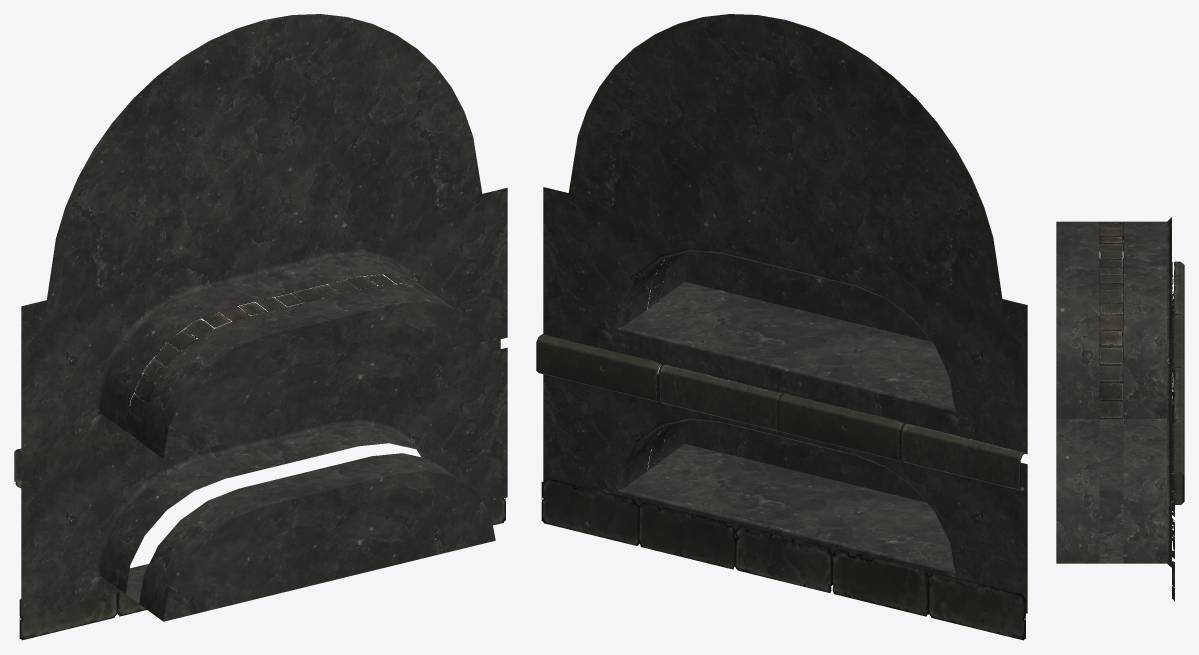
3 views of the same model, side by side, from view 1: azimuth 30°, elevation 25°; view 2: azimuth 150°, elevation 25°; view 3: azimuth 270°, elevation 25° (orthographic). The views are drawn at different scales.
Parts seen in each view (by area): view 1: SM_Dowdun_Vaulted_Wall_12x12_04_LOD0; view 2: SM_Dowdun_Vaulted_Wall_12x12_04_LOD0; view 3: SM_Dowdun_Vaulted_Wall_12x12_04_LOD0.
Part boxes in pixels (<box>): SM_Dowdun_Vaulted_Wall_12x12_04_LOD0: <box>14,14,507,640</box>; SM_Dowdun_Vaulted_Wall_12x12_04_LOD0: <box>536,14,1027,640</box>; SM_Dowdun_Vaulted_Wall_12x12_04_LOD0: <box>1056,217,1184,601</box>.
Size of the model in its own units: 11.39 by 12.6 by 2.93.
2 materials, 2 textured.
